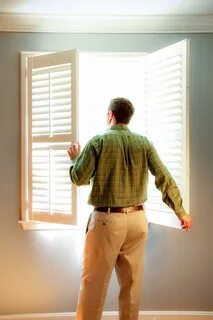awake: (68, 97, 192, 320)
